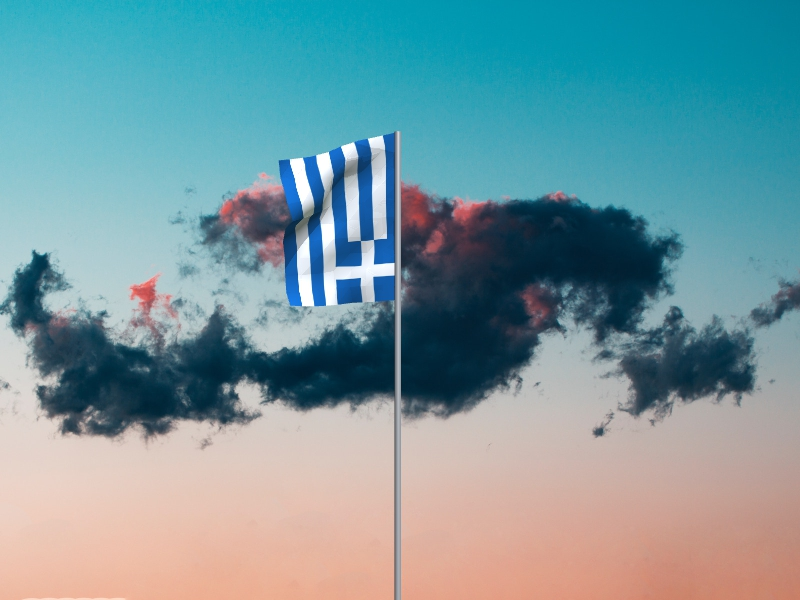gr: (278, 134, 395, 308)
